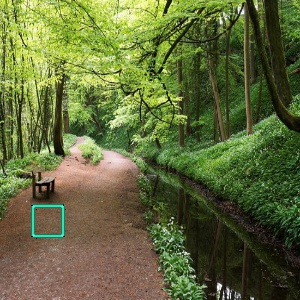square: (29, 200, 67, 241)
